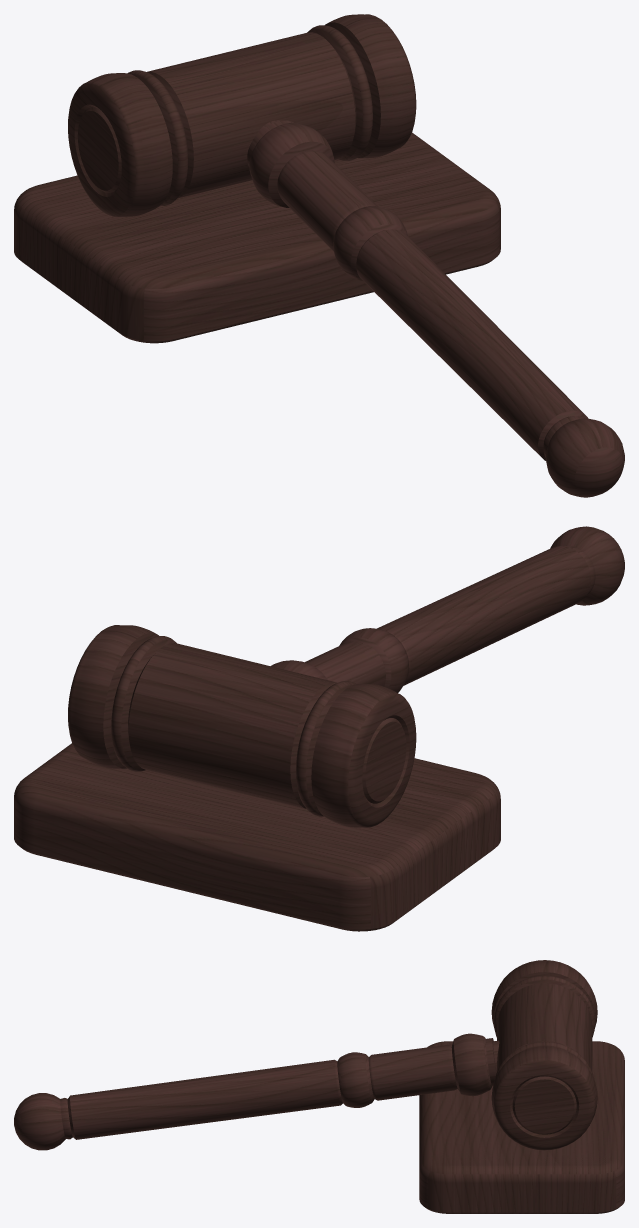
The model's file is JudgeGavel.fbx.
The picture shows the model from 3 angles, top to bottom: view 1: azimuth 30°, elevation 25°; view 2: azimuth 150°, elevation 25°; view 3: azimuth 270°, elevation 25°; orthographic projection. The views are drawn at different scales.
Parts seen in each view (by area): view 1: Gavel, SoundBlock; view 2: Gavel, SoundBlock; view 3: Gavel, SoundBlock.
Boxes of the visible parts, x1=… form: Gavel: x1=68, y1=14, x2=624, y2=497; SoundBlock: x1=14, y1=132, x2=500, y2=343; Gavel: x1=68, y1=526, x2=624, y2=827; SoundBlock: x1=14, y1=743, x2=500, y2=931; Gavel: x1=14, y1=960, x2=597, y2=1150; SoundBlock: x1=419, y1=1041, x2=624, y2=1213.
Size of the model in its own units: 0.17 by 0.0832 by 0.327.
1 material, 1 textured.
